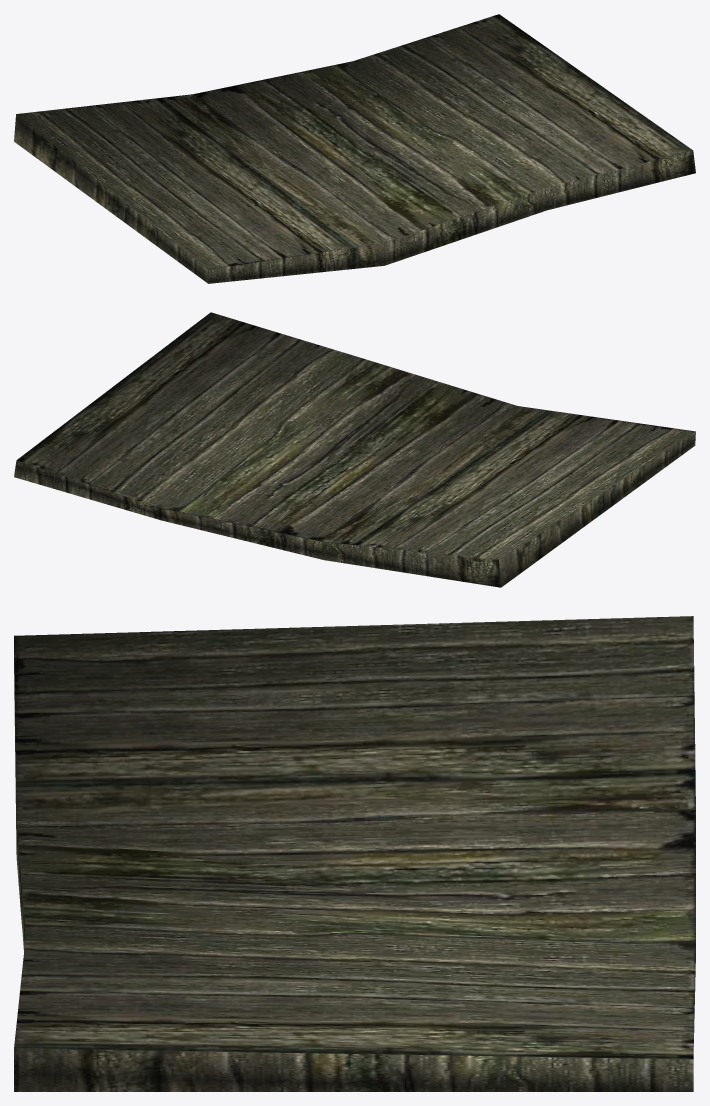
File: MIN_LOB_PLANKS_3X7M.glb
3 renders of one model, top to bottom at view 1: azimuth 30°, elevation 25°; view 2: azimuth 150°, elevation 25°; view 3: azimuth 270°, elevation 25°, orthographic. The views are drawn at different scales.
Visible parts, largest first — view 1: Mesh; view 2: Mesh; view 3: Mesh.
Part boxes in pixels (x1,y1,x2,y2): Mesh: (14, 14, 695, 283); Mesh: (14, 312, 695, 587); Mesh: (14, 616, 695, 1091).
Bounding box in the file's own units: 7.12 × 0.7329 × 4.93.
1 material, 1 textured.
